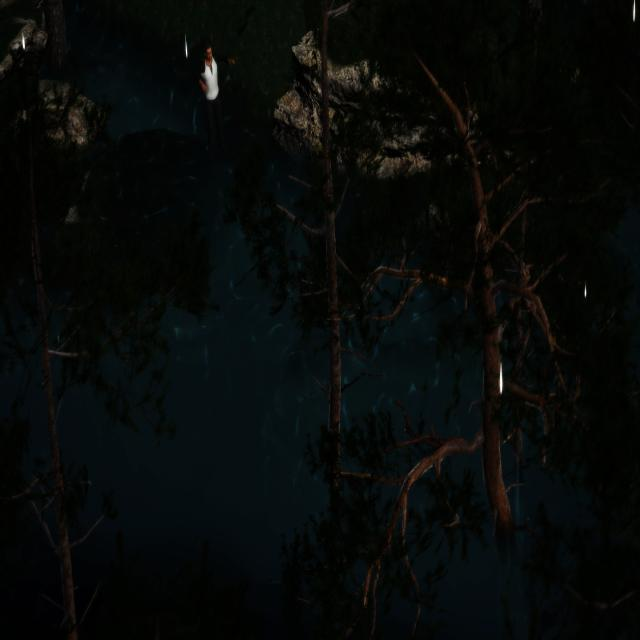Human: (194, 34, 226, 170)
